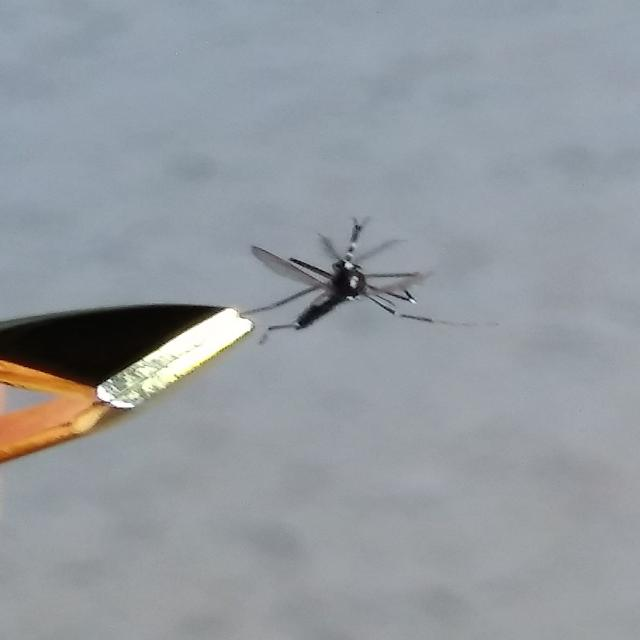albopictus: (238, 208, 448, 337)
